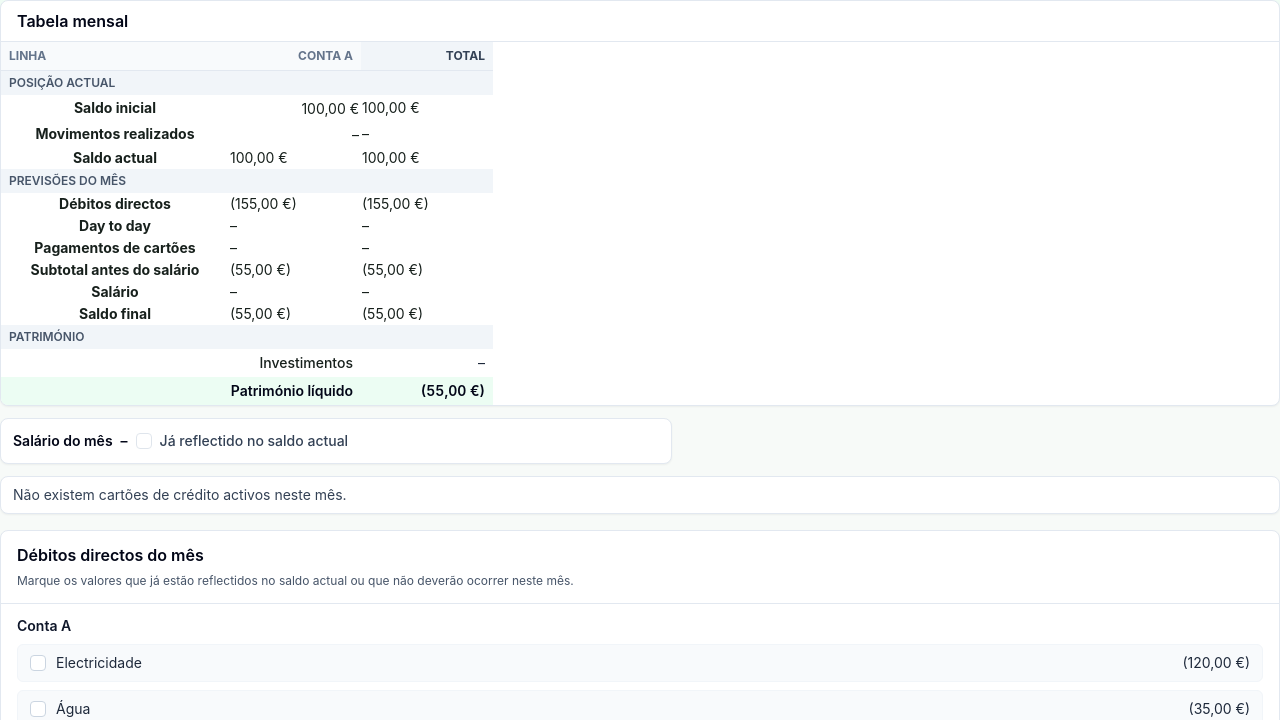
Scenario: MonthlyBudgetTable › excludes and re-includes a monthly direct debit immediately
Click the checkbox named "Excluir Electricidade da previsão deste mês" at x=38, y=663, box top-left (30, 655), bottom-right (46, 671)
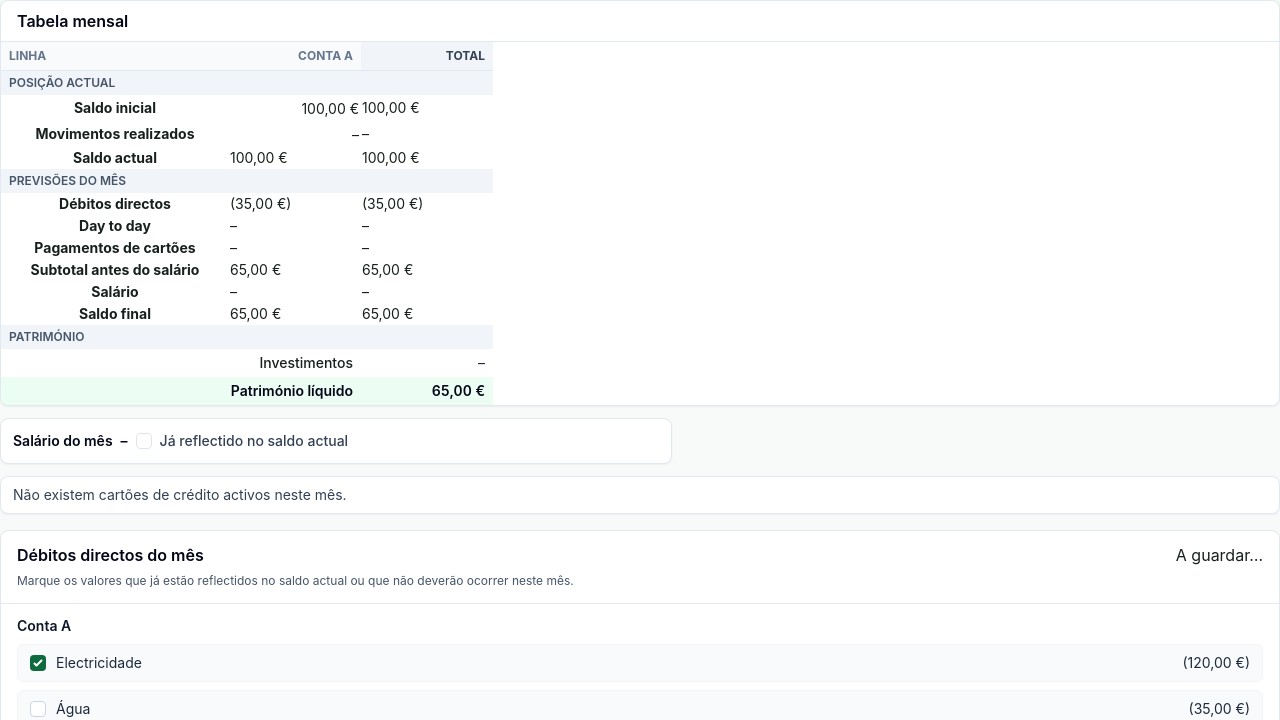
Result: the 1st text "(35,00 €)" is shown at top-left (229, 193), bottom-right (361, 215)
Result: the 3rd text "65,00 €" is shown at top-left (229, 303), bottom-right (361, 325)
Click the checkbox named "Excluir Electricidade da previsão deste mês" at x=38, y=663, box top-left (30, 655), bottom-right (46, 671)
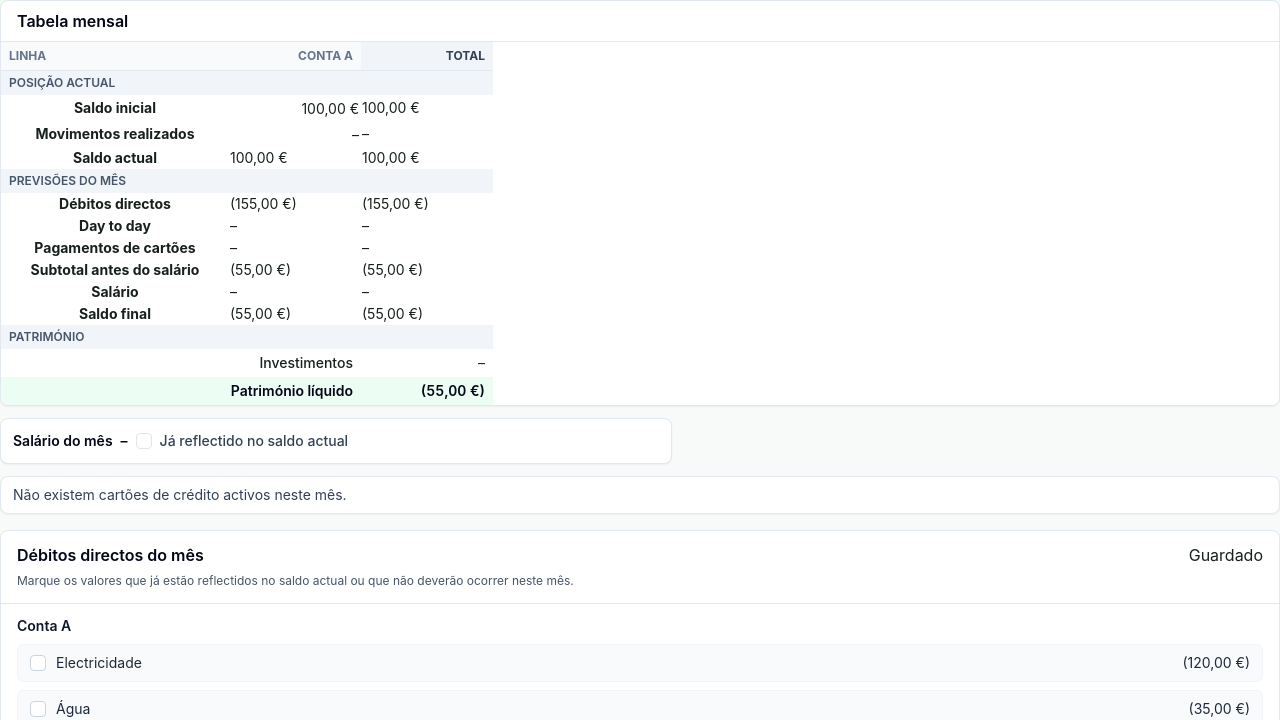
Result: the 1st text "(155,00 €)" is shown at top-left (229, 193), bottom-right (361, 215)
